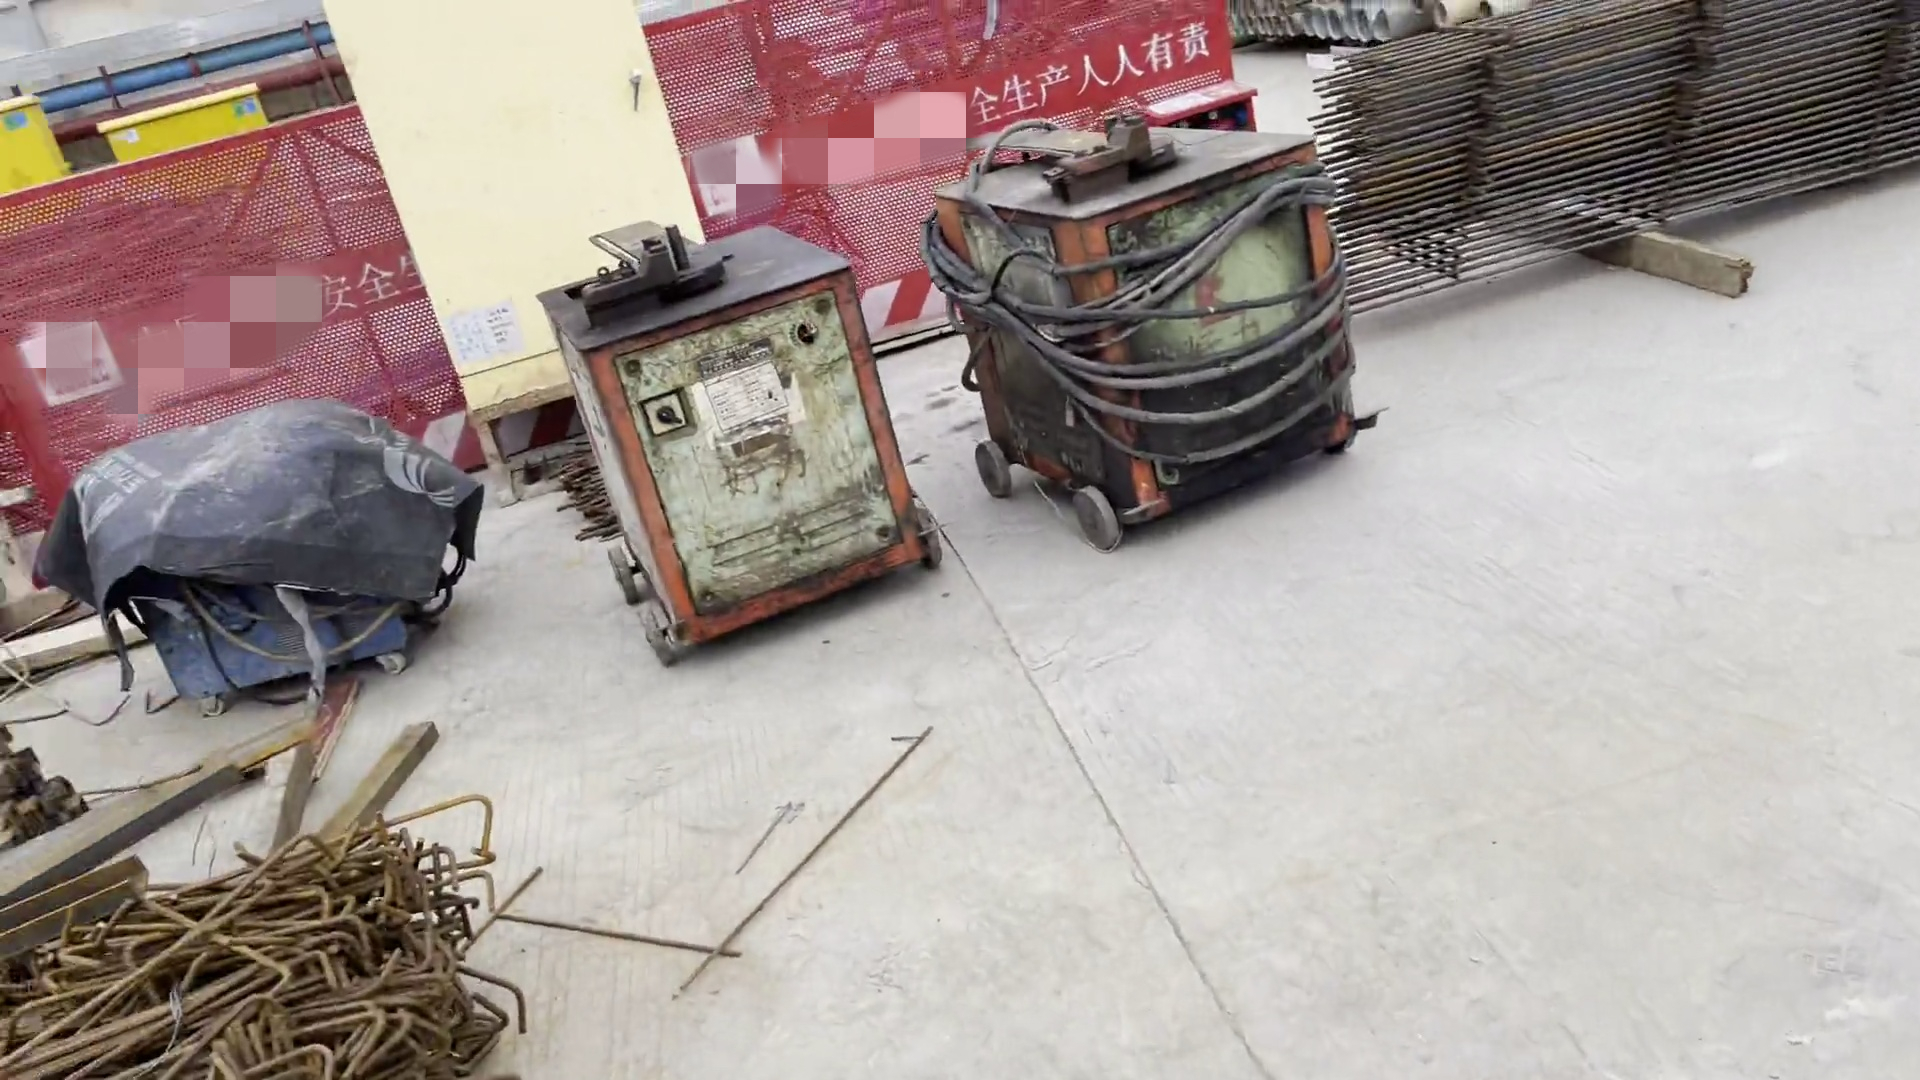cutter: (905, 80, 1404, 568), (531, 181, 981, 676)
ebox: (306, 3, 725, 425), (3, 92, 310, 204)
fence: (3, 115, 473, 492), (646, 4, 1292, 142), (669, 132, 967, 326)
rebar: (1329, 5, 1920, 306)
